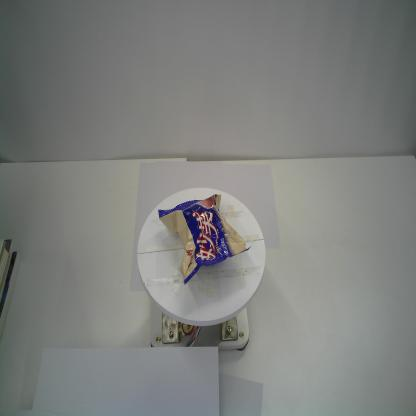Dessert: (158, 193, 252, 285)
